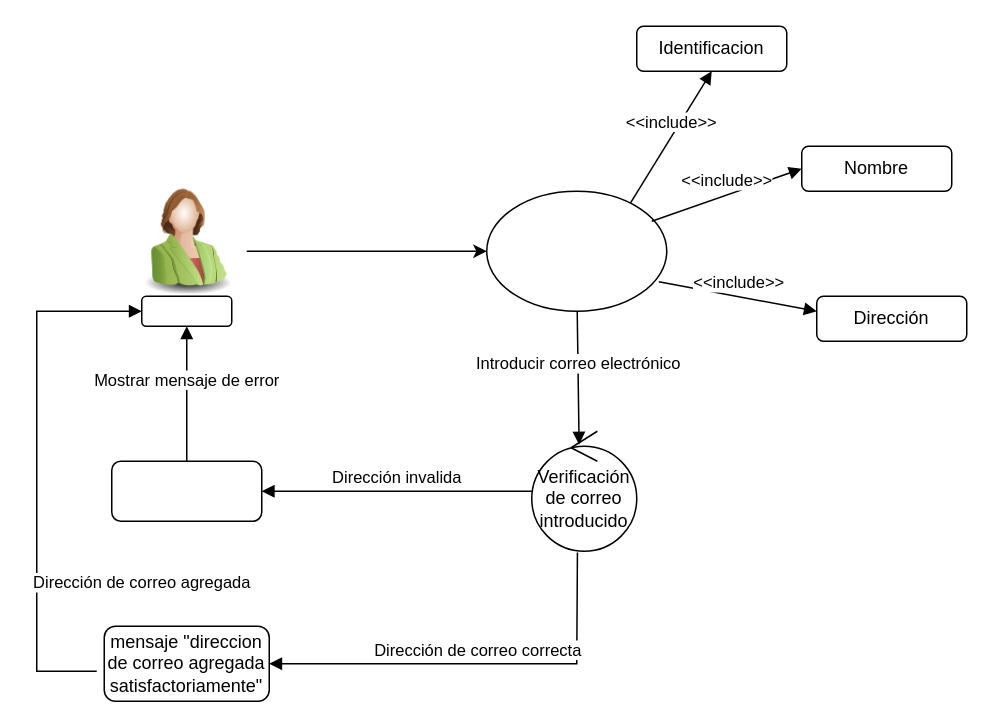
Some shapes in this 993 by 728 pixel diagram are drawn without their labels. Each missing label, with the box of its shape:
Crea una cuenta: (485, 190, 667, 311)
mensaje "Dirección de correo errónea": (110, 460, 262, 521)
Usuario: (140, 295, 232, 326)
